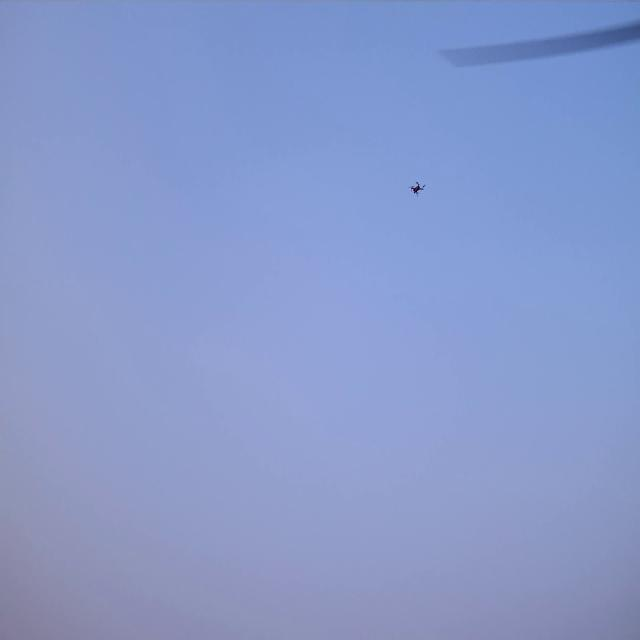UAV: (411, 182, 424, 194)
